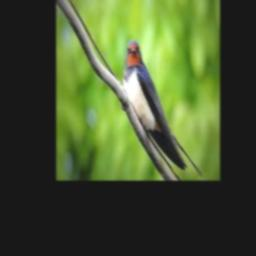Swallow: (122, 39, 203, 177)
